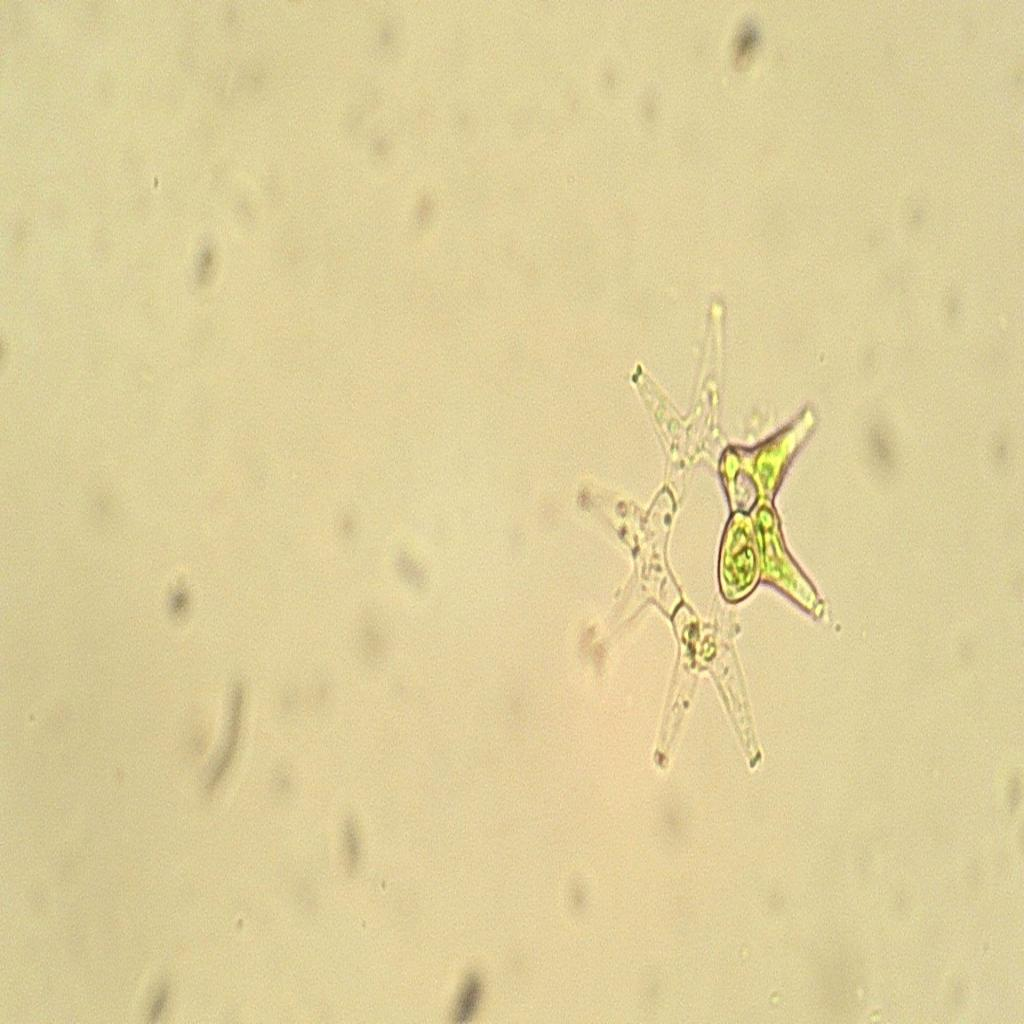Pediastrum_75TH: (568, 270, 832, 808)
